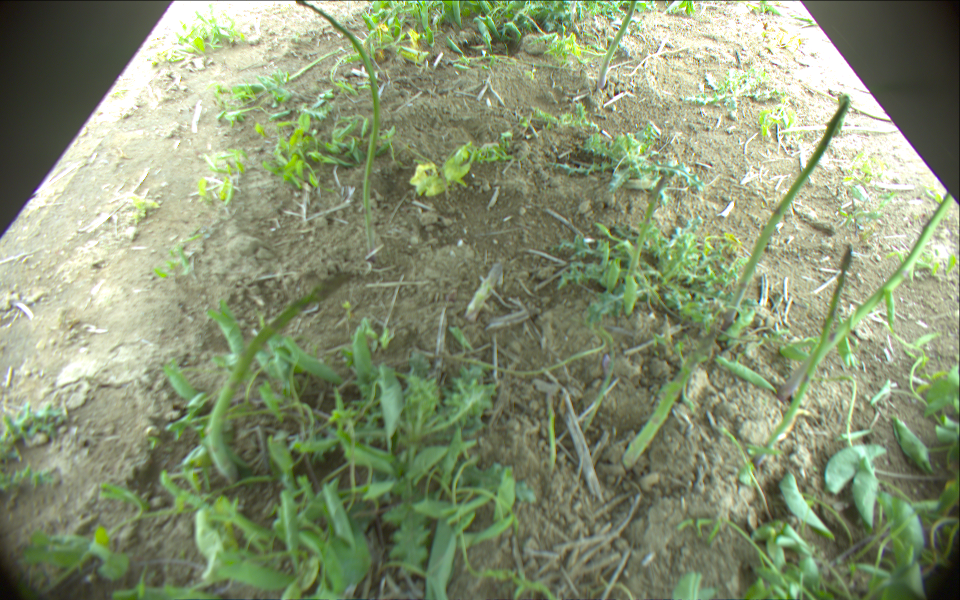aspa: (621, 93, 852, 472), (778, 190, 954, 399), (204, 270, 355, 486), (293, 1, 381, 256), (758, 245, 854, 464), (625, 171, 669, 316), (597, 1, 635, 90)
